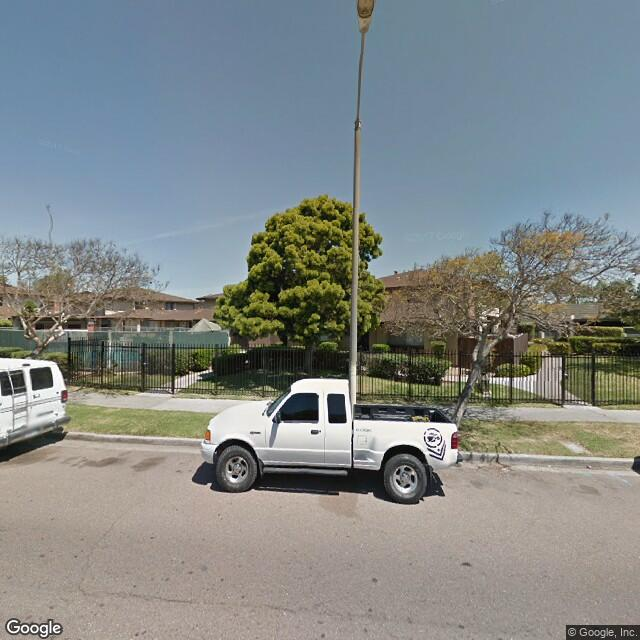litter: (580, 462, 604, 475)
